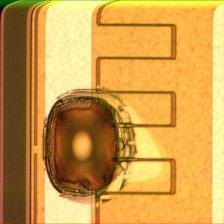PARTICLE: (38, 84, 143, 210)
